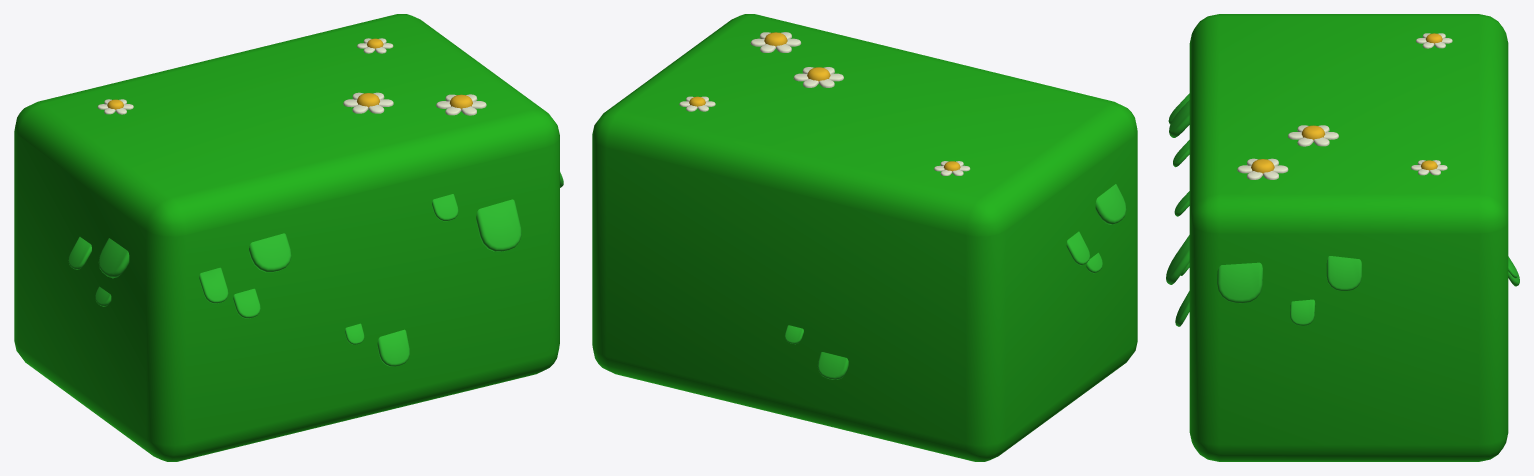
File: busch.glb
3 views of the same model, side by side, from view 1: azimuth 30°, elevation 25°; view 2: azimuth 150°, elevation 25°; view 3: azimuth 270°, elevation 25° (orthographic).
Visible parts, largest first — view 1: busch.001, flowers, flower; view 2: busch.001, flowers, flower; view 3: busch.001, flowers, flower.
Boxes of the visible parts, left/top/right/bottom form: busch.001: left=14, top=14, right=563, bottom=461; flowers: left=97, top=38, right=393, bottom=114; flower: left=436, top=94, right=486, bottom=115; busch.001: left=592, top=14, right=1137, bottom=461; flowers: left=679, top=67, right=970, bottom=175; flower: left=750, top=32, right=801, bottom=52; busch.001: left=1166, top=14, right=1519, bottom=461; flowers: left=1288, top=33, right=1452, bottom=175; flower: left=1237, top=158, right=1288, bottom=179.
Bounding box in the file's own units: 2.13 × 1.26 × 1.48.
